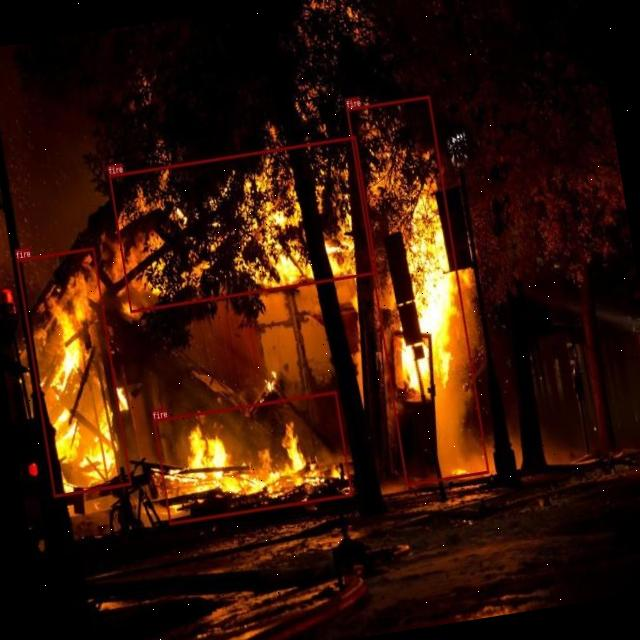fire: (346, 96, 489, 486), (109, 136, 378, 312), (17, 248, 132, 498), (154, 391, 353, 525)
